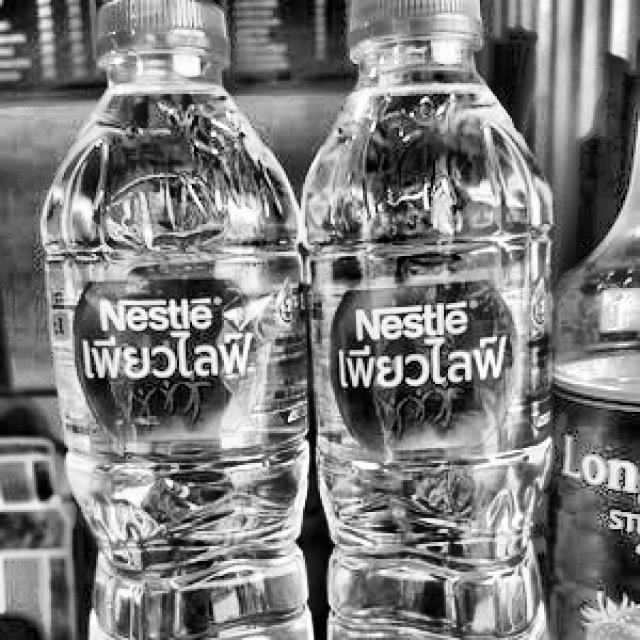waterbottle: (36, 0, 324, 640), (289, 0, 567, 640)
